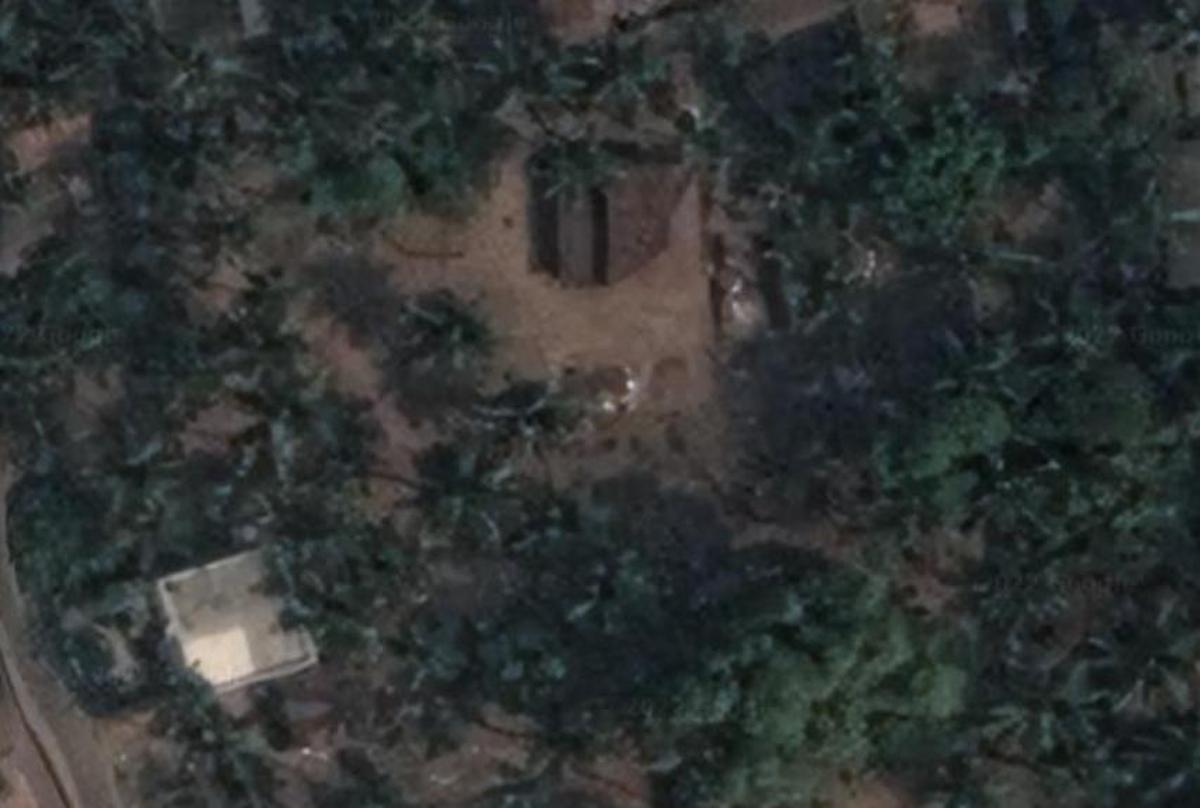coconut: (1097, 596, 1200, 713), (247, 360, 354, 456), (956, 439, 1059, 534), (80, 415, 174, 515), (422, 454, 519, 550), (564, 544, 661, 639), (396, 281, 488, 373), (997, 661, 1090, 750), (939, 320, 1026, 411), (1032, 285, 1118, 377), (576, 35, 665, 118), (1074, 481, 1164, 563), (531, 126, 620, 208), (970, 560, 1060, 640), (1116, 723, 1200, 808), (478, 38, 566, 115), (361, 0, 441, 73)
